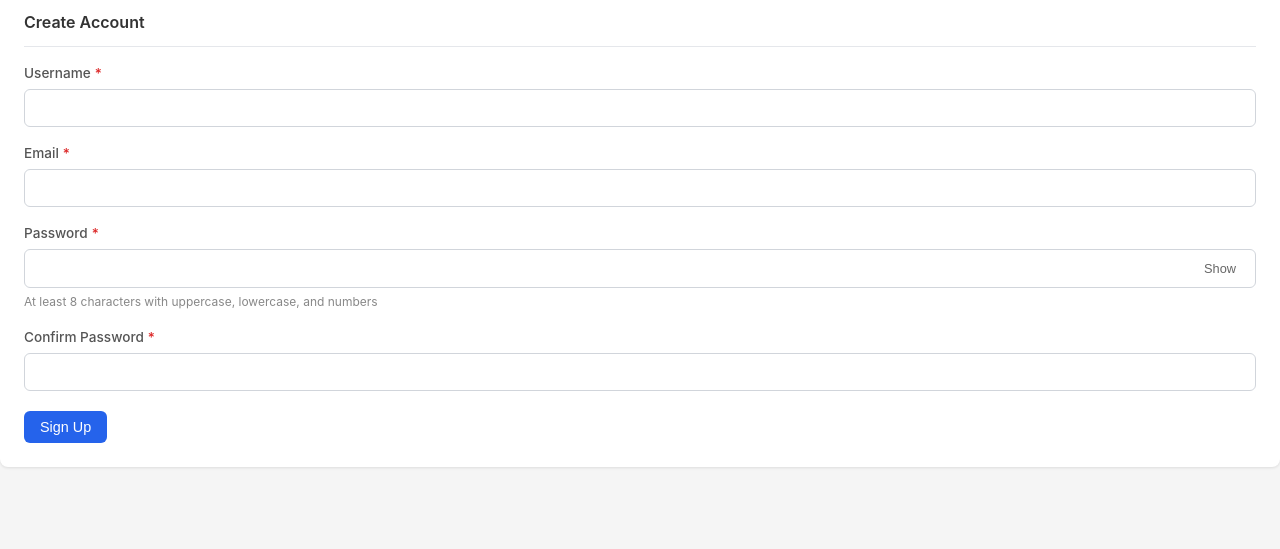
Test: SignUpForm › shows server error message
In the field labelled "Username*": (640, 108) x1=24 y1=89 x2=1256 y2=127, type "testuser"
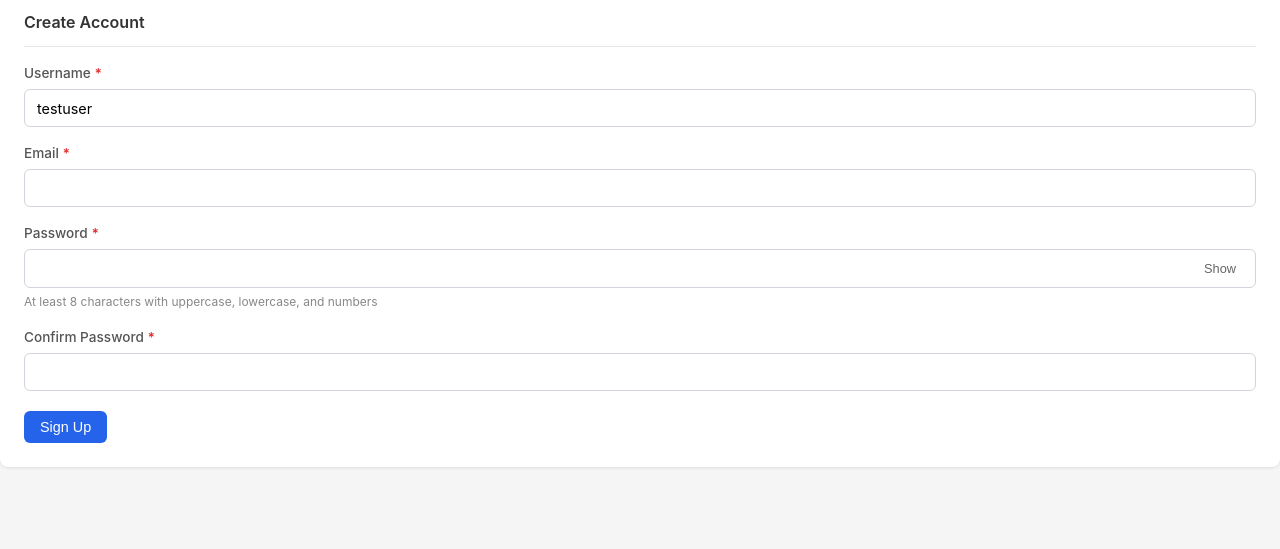
In the field labelled "Email*": (640, 188) x1=24 y1=169 x2=1256 y2=207, type "test@example.com"
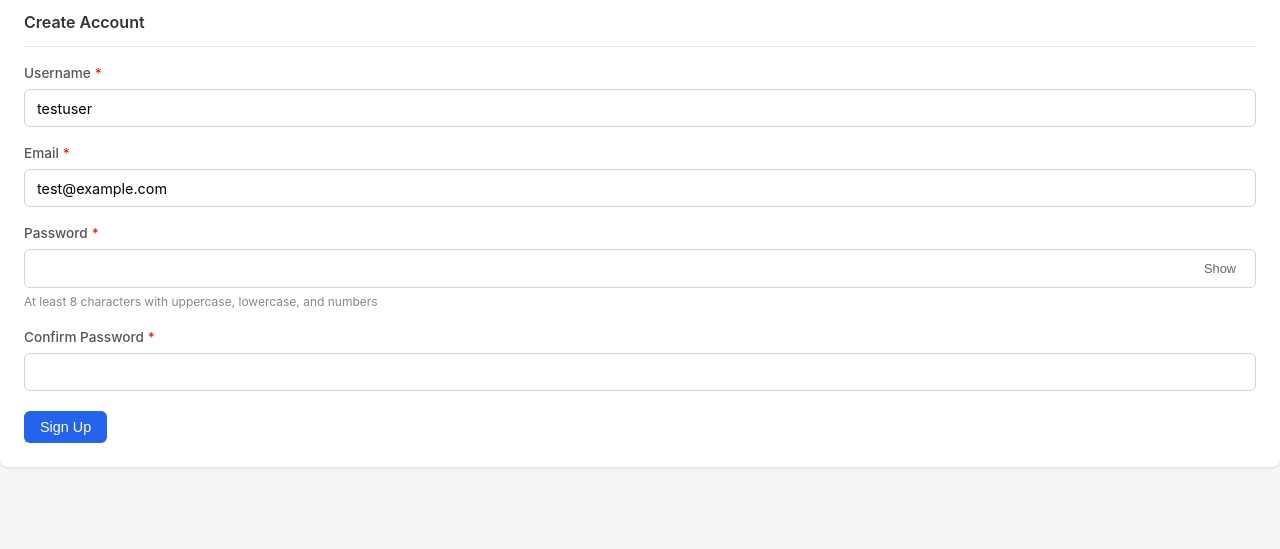
In the password field labelled "Password*": (640, 268) x1=24 y1=249 x2=1256 y2=288, type "Password123"
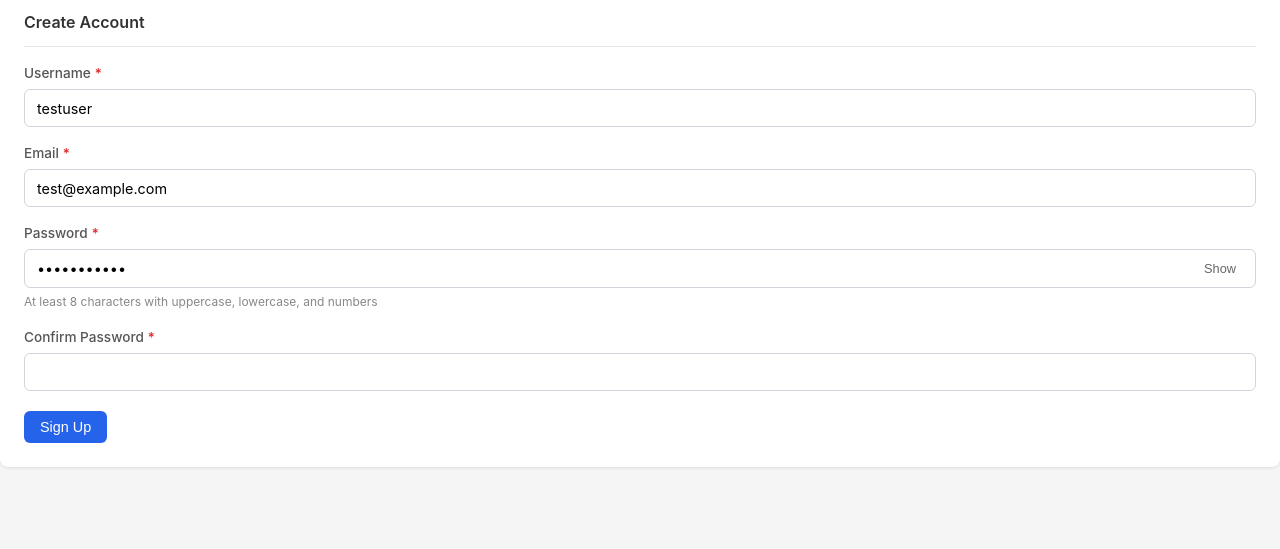
In the password field with id "confirmPassword": (640, 372) x1=24 y1=353 x2=1256 y2=391, type "Password123"
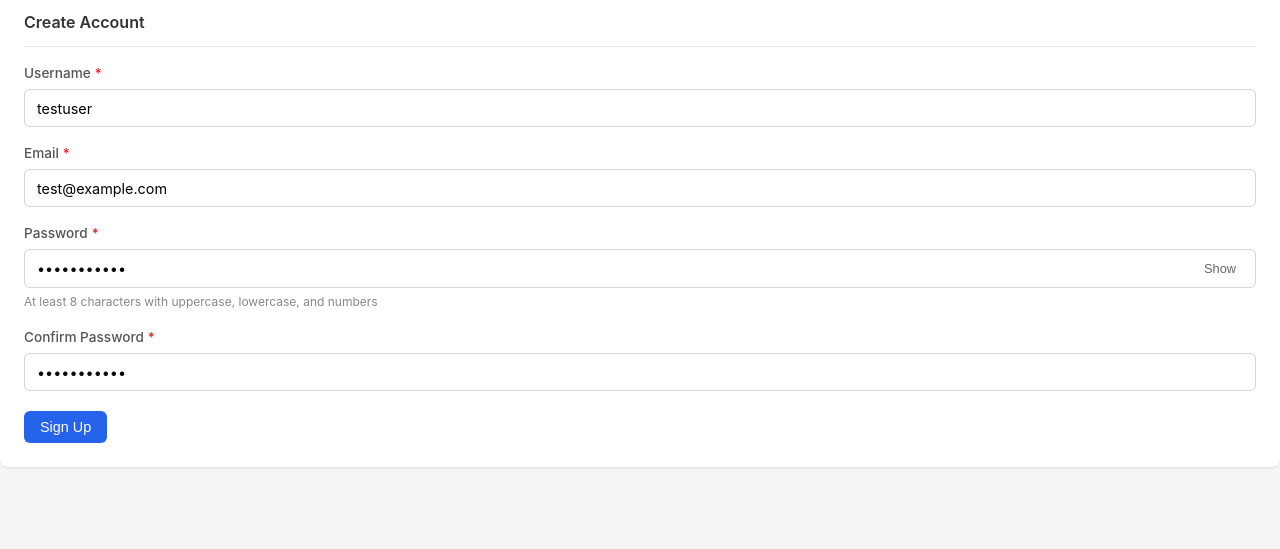
Click the button "Sign Up": (66, 427) x1=24 y1=411 x2=107 y2=443
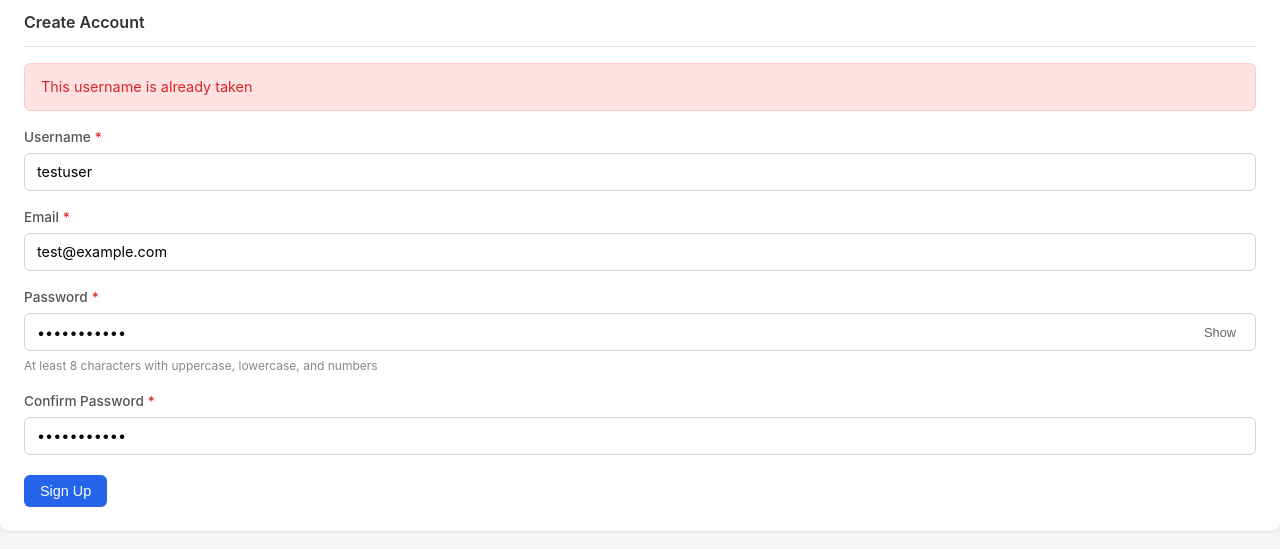
Expected: the text "This username is already taken" is shown, x1=24 y1=63 x2=1256 y2=111
